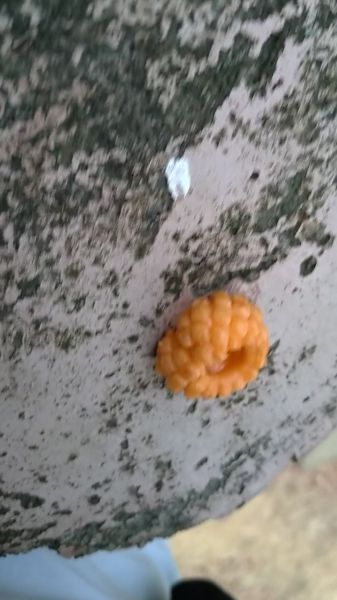eggs: (149, 277, 276, 417)
